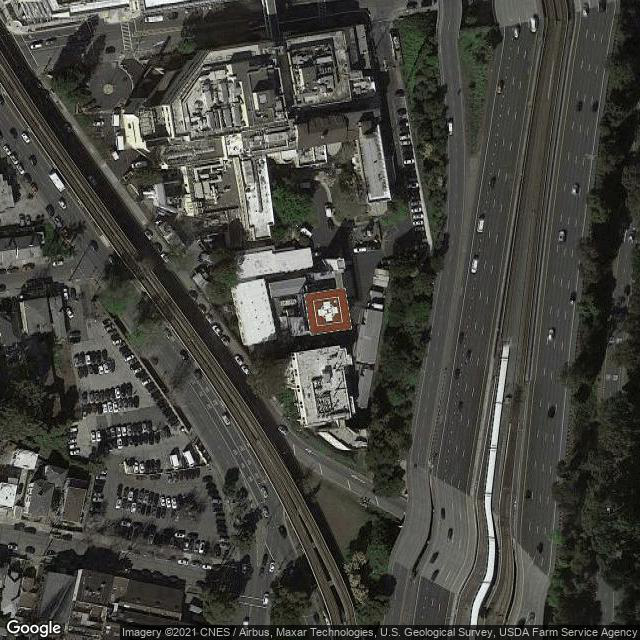Helipad: (306, 291, 352, 331)
